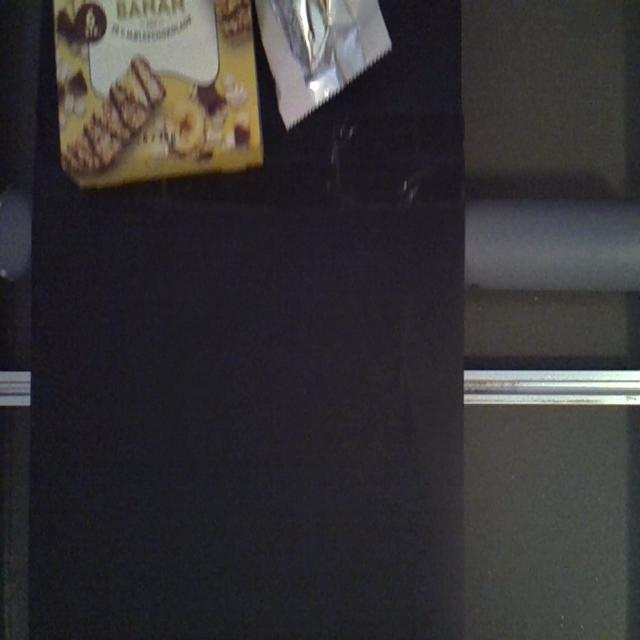carton: (50, 2, 268, 193)
packaging-soft-plastic: (256, 0, 395, 139)
